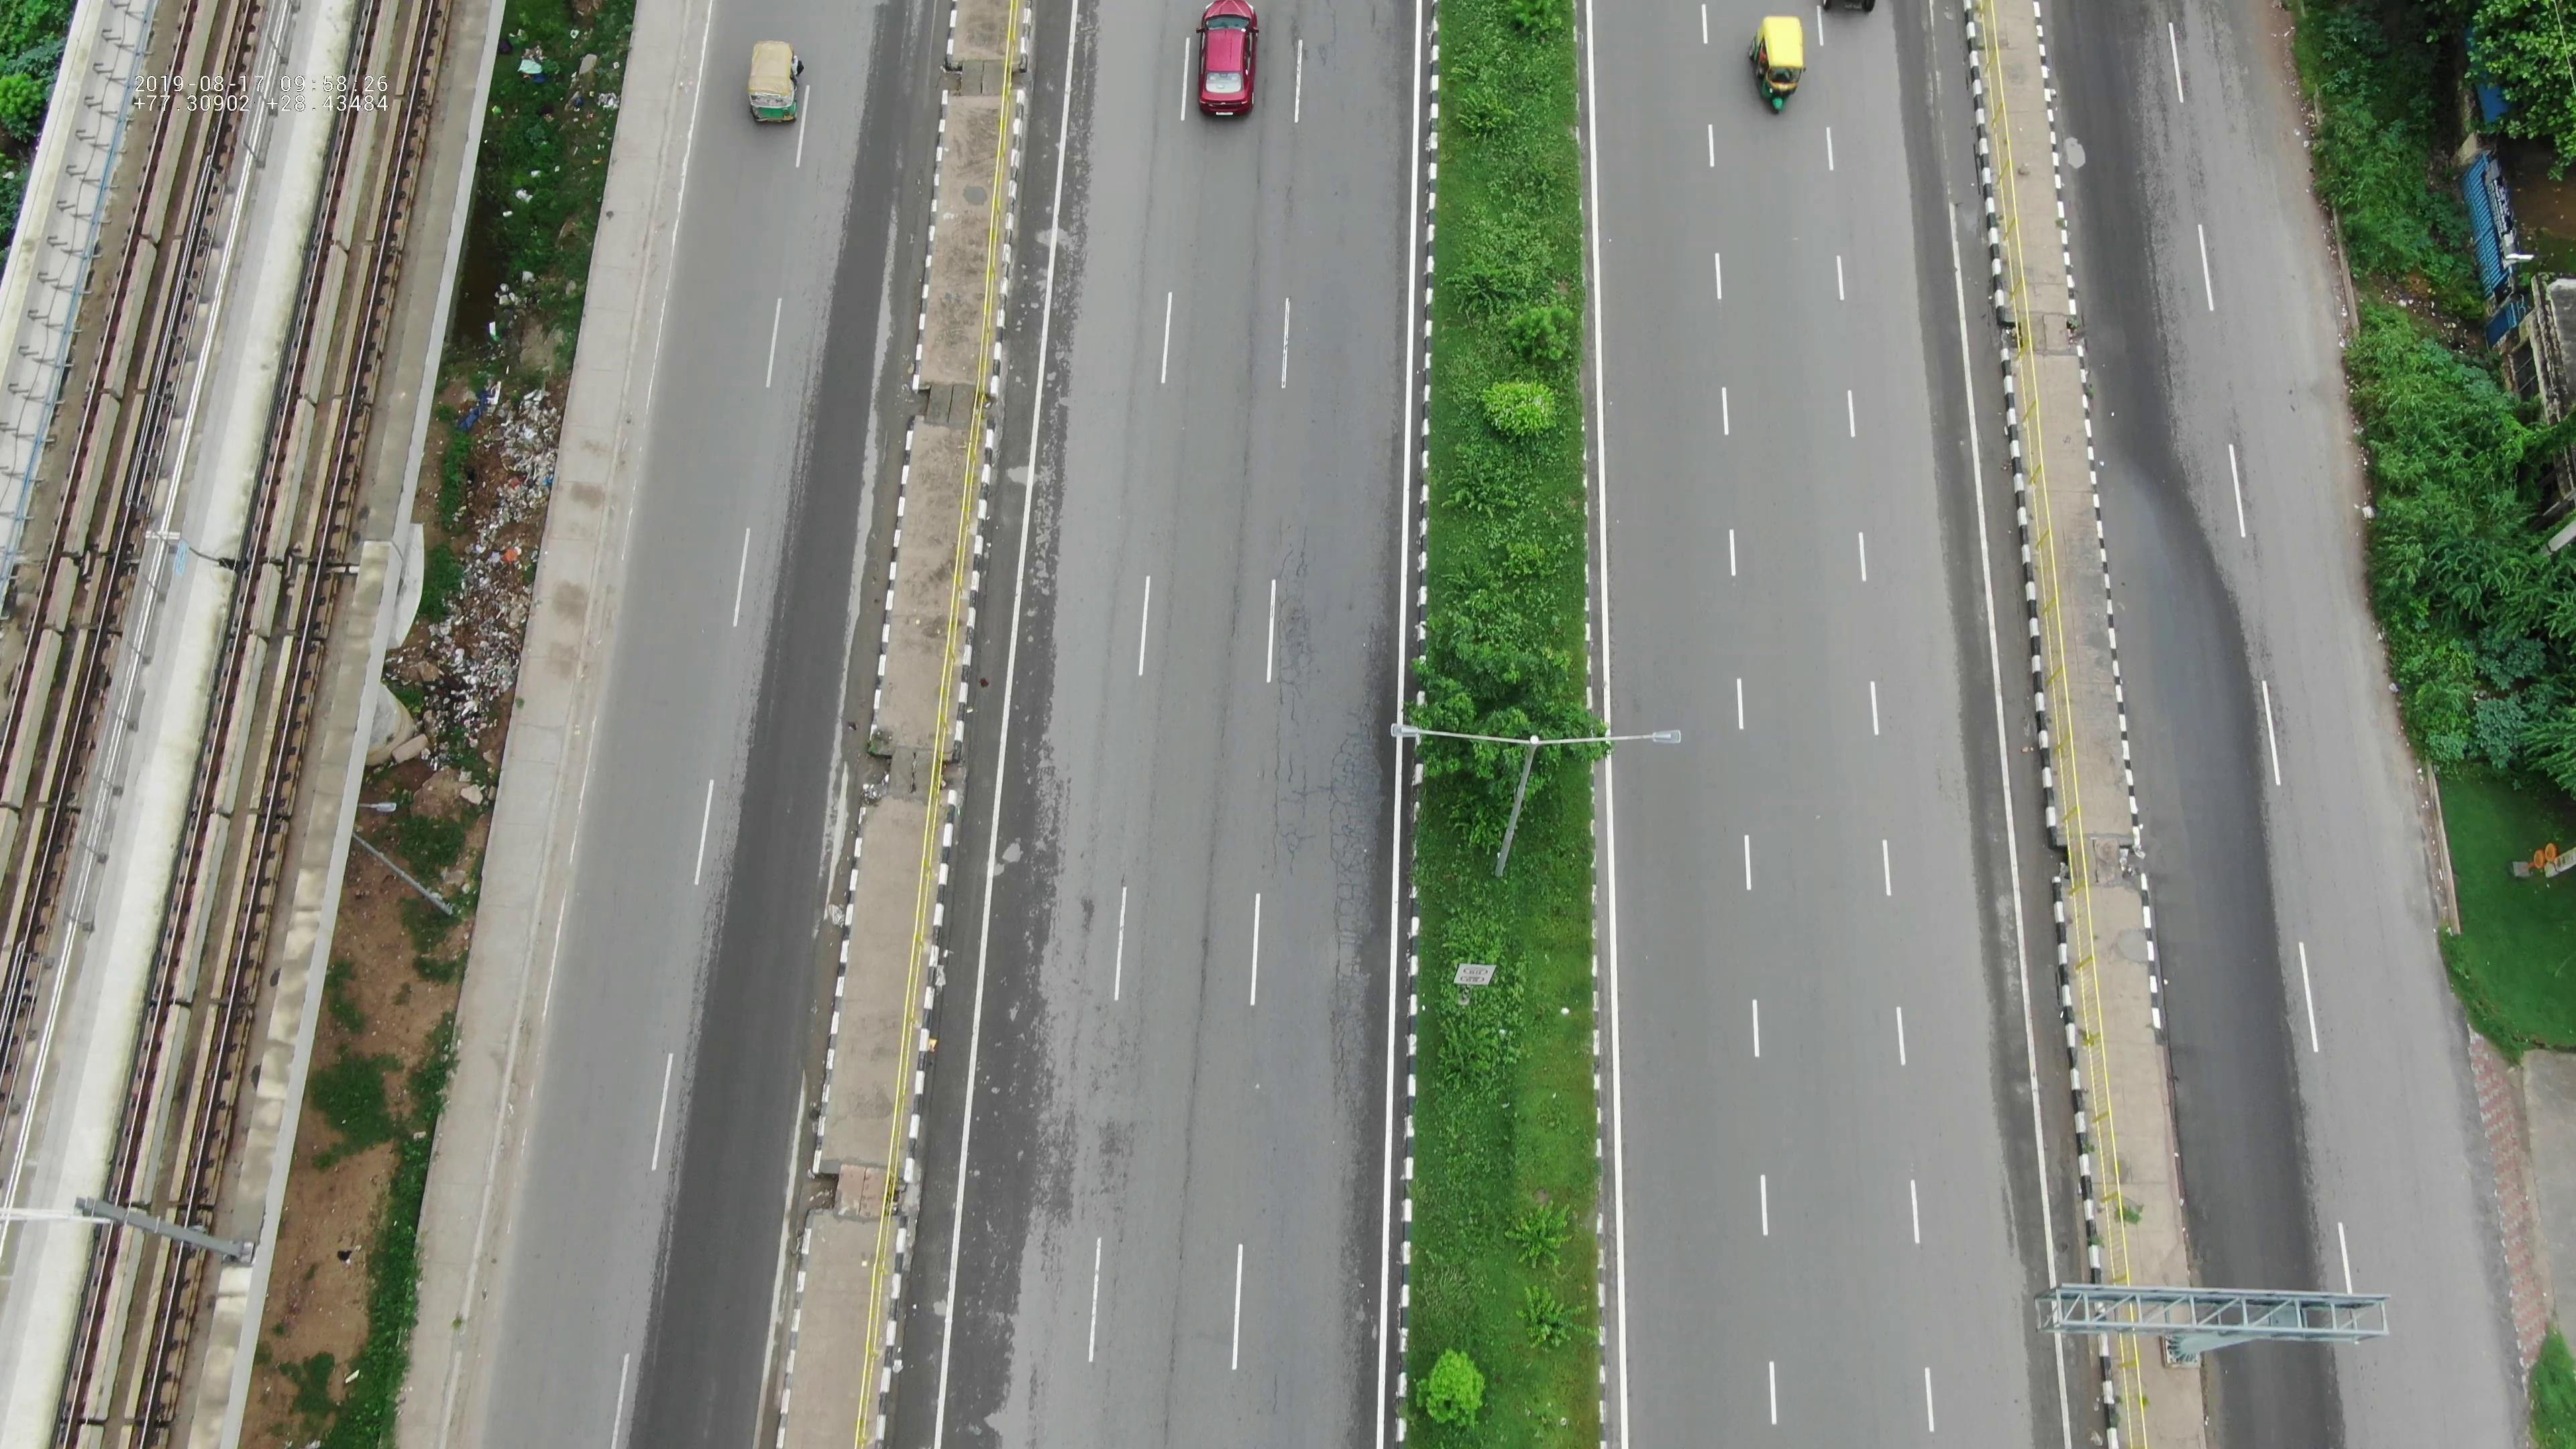Alligator_cracks: (1260, 621, 1391, 860), (1299, 906, 1391, 1093)
Road_side_garbage: (410, 372, 566, 770)
